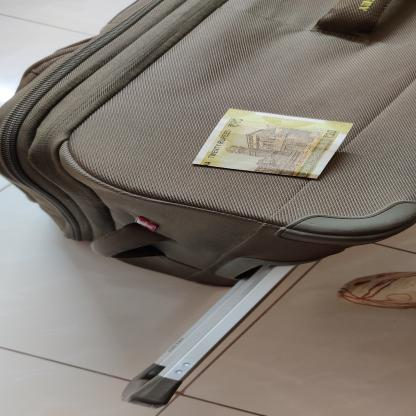New20Back: (191, 108, 354, 179)
